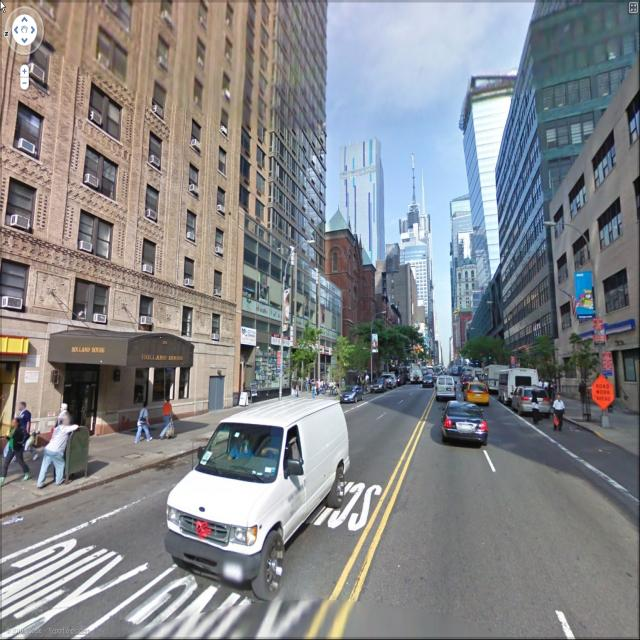b_1: (5, 1, 233, 352), (554, 64, 632, 435), (488, 67, 550, 331), (276, 7, 330, 256), (382, 176, 440, 370), (450, 190, 492, 394), (334, 136, 401, 259), (240, 8, 275, 233)
b_2: (290, 269, 403, 403)
